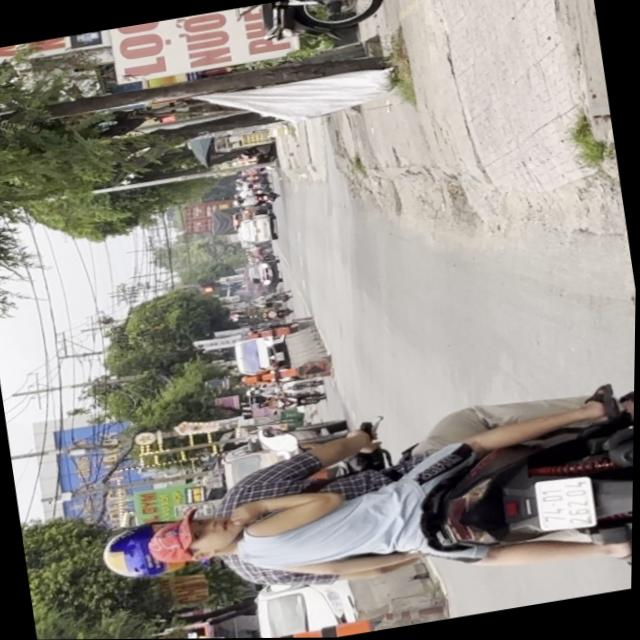helmet: (98, 517, 179, 589)
licenseplate: (87, 368, 636, 639)
motorcyclist: (146, 505, 248, 572)
nohelmet: (533, 475, 599, 534)
